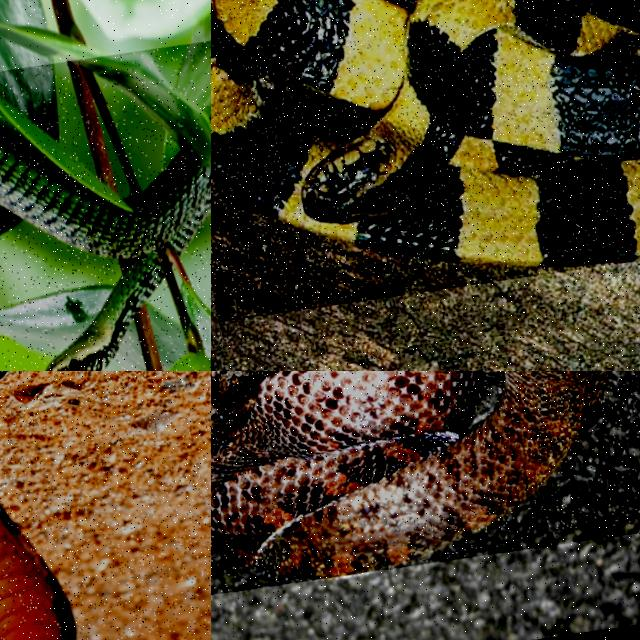Bungarus fasciatus: (211, 0, 639, 265)
Chrysopelea ornata: (0, 143, 210, 370)
Ophiophagus hannah: (0, 506, 75, 639)
Ovophis monticola: (211, 371, 607, 578)
snake: (211, 0, 639, 265), (211, 371, 607, 578), (0, 143, 210, 370), (0, 506, 75, 639)
